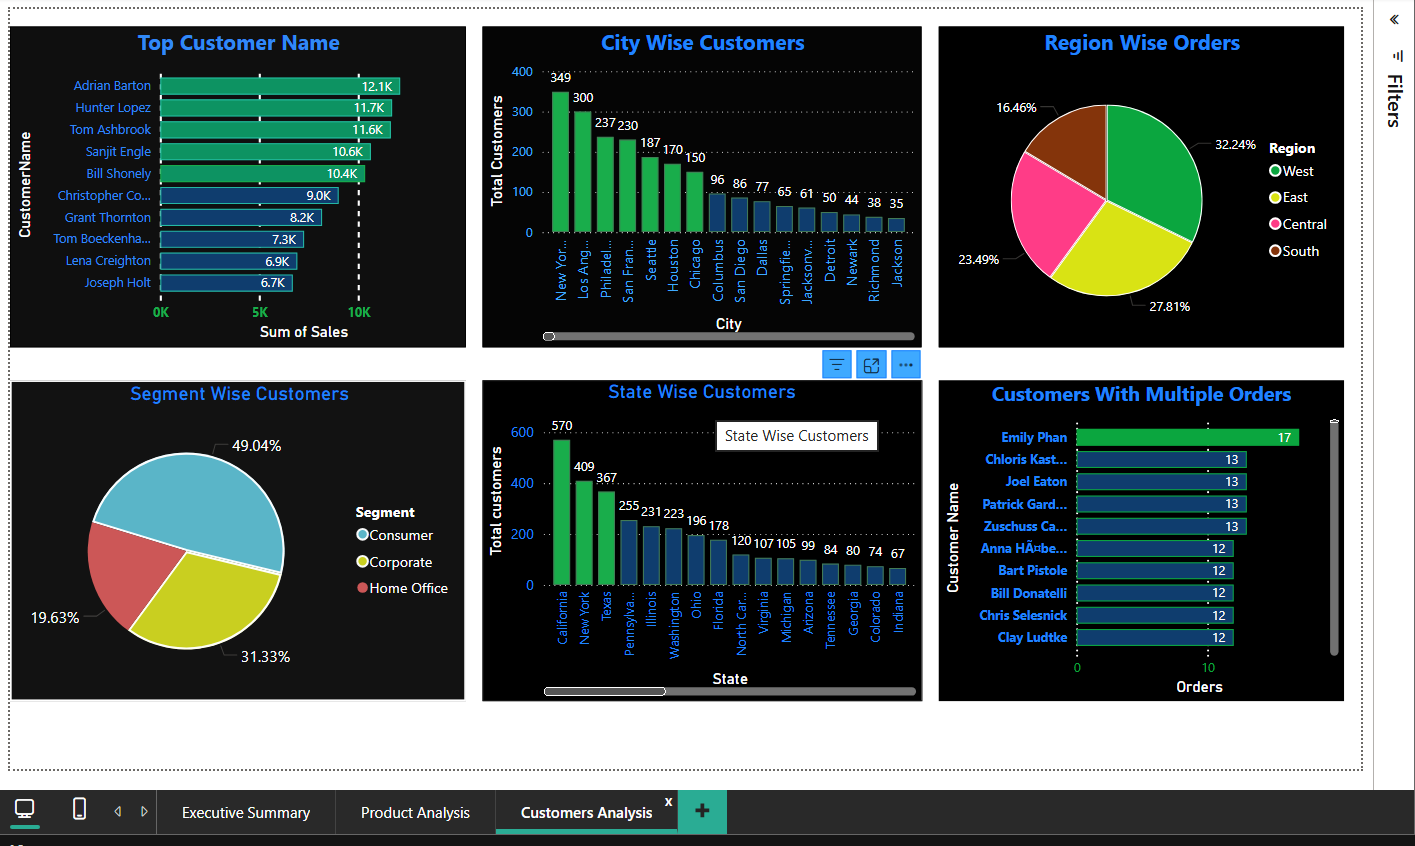

What the dashboard file says about the page in this screenshot:
{"tool":"powerbi","page":{"name":"Customers Analysis","canvas":[1280,720],"ordinal":2},"visuals":[{"type":"clusteredBarChart","title":"Top Customer Name","fields":{"Category":["supersales_cleaned(in)1.CustomerName"],"Y":["Sum(supersales_cleaned(in)1.Sales)"]},"box":[0,16,432,304],"z":0},{"type":"pieChart","title":"Segment Wise Customers","fields":{"Category":["supersales_cleaned(in)1.Segment"],"Y":["Count(supersales_cleaned(in)1.Sales)"]},"box":[0,352,432,304],"z":1000},{"type":"clusteredColumnChart","title":"City Wise Customers","fields":{"Category":["supersales_cleaned(in)1.City"],"Y":["Count(supersales_cleaned(in)1.CustomerID)"]},"box":[448,16,416,304],"z":2000},{"type":"clusteredColumnChart","title":"State Wise Customers","fields":{"Category":["supersales_cleaned(in)1.State"],"Y":["Count(supersales_cleaned(in)1.CustomerID)"]},"box":[448,352,416,304],"z":3000},{"type":"pieChart","title":"Region Wise Orders","fields":{"Category":["supersales_cleaned(in)1.Region"],"Y":["Count(supersales_cleaned(in)1.OrderID)"]},"box":[880,16,384,304],"z":3001},{"type":"clusteredBarChart","title":"Customers With Multiple Orders","fields":{"Category":["supersales_cleaned(in)1.CustomerName"],"Y":["Count(supersales_cleaned(in)1.OrderID)"]},"box":[880,352,384,304],"z":3002}]}

Visuals, with their boxes in screenshot pixels (x1, y1, x2, y2):
"Top Customer Name" clusteredBarChart: [x1=7, y1=24, x2=462, y2=344]
"Segment Wise Customers" pieChart: [x1=7, y1=378, x2=462, y2=697]
"City Wise Customers" clusteredColumnChart: [x1=478, y1=24, x2=916, y2=344]
"State Wise Customers" clusteredColumnChart: [x1=478, y1=378, x2=916, y2=697]
"Region Wise Orders" pieChart: [x1=933, y1=24, x2=1337, y2=344]
"Customers With Multiple Orders" clusteredBarChart: [x1=933, y1=378, x2=1337, y2=697]
